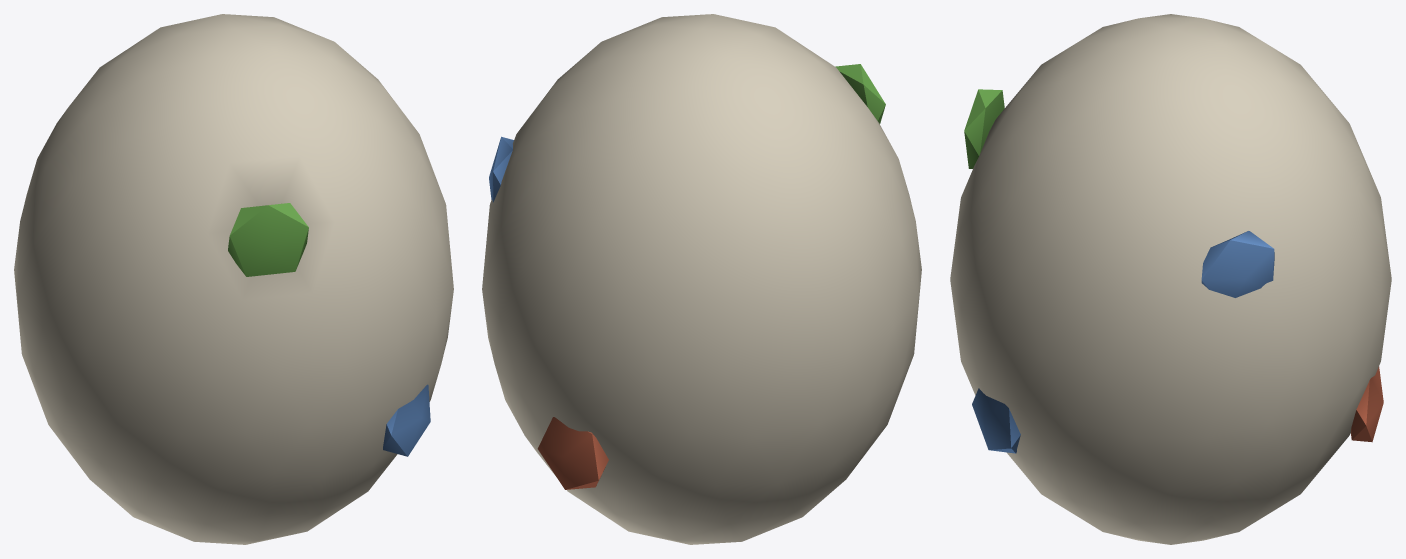
The model's file is p_egg.glb.
The picture shows the model from 3 angles, left to right: view 1: azimuth 30°, elevation 25°; view 2: azimuth 150°, elevation 25°; view 3: azimuth 270°, elevation 25°; orthographic projection.
Visible parts, largest first — view 1: body; view 2: body; view 3: body.
Part boxes in pixels (x1,y1,x2,y2): body: (14,14,453,544); body: (482,14,921,544); body: (950,14,1391,544).
Bounding box in the file's own units: 0.56 × 0.7 × 0.56.
